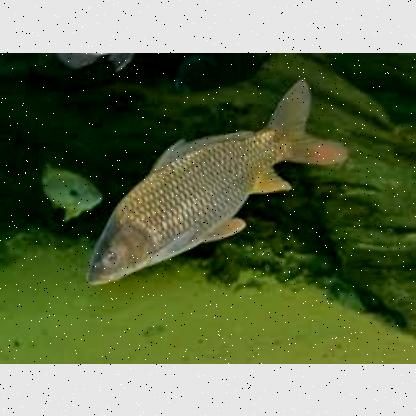ikan-mas: (82, 82, 328, 284)
